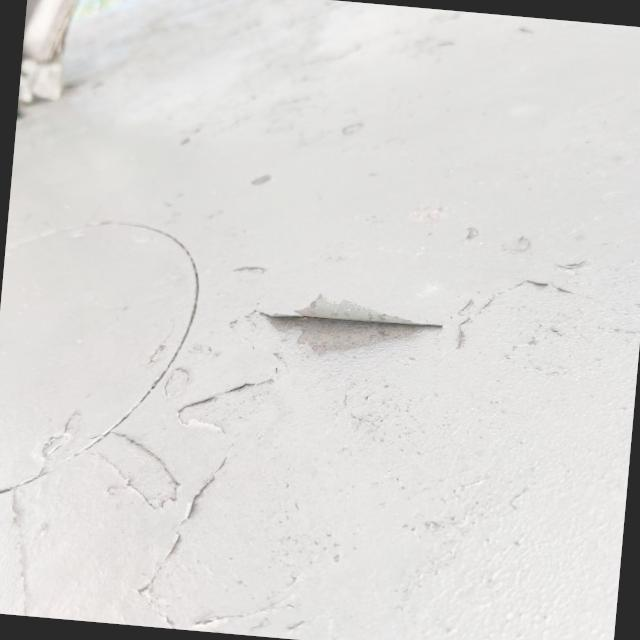paint-off: (232, 266, 456, 388)
